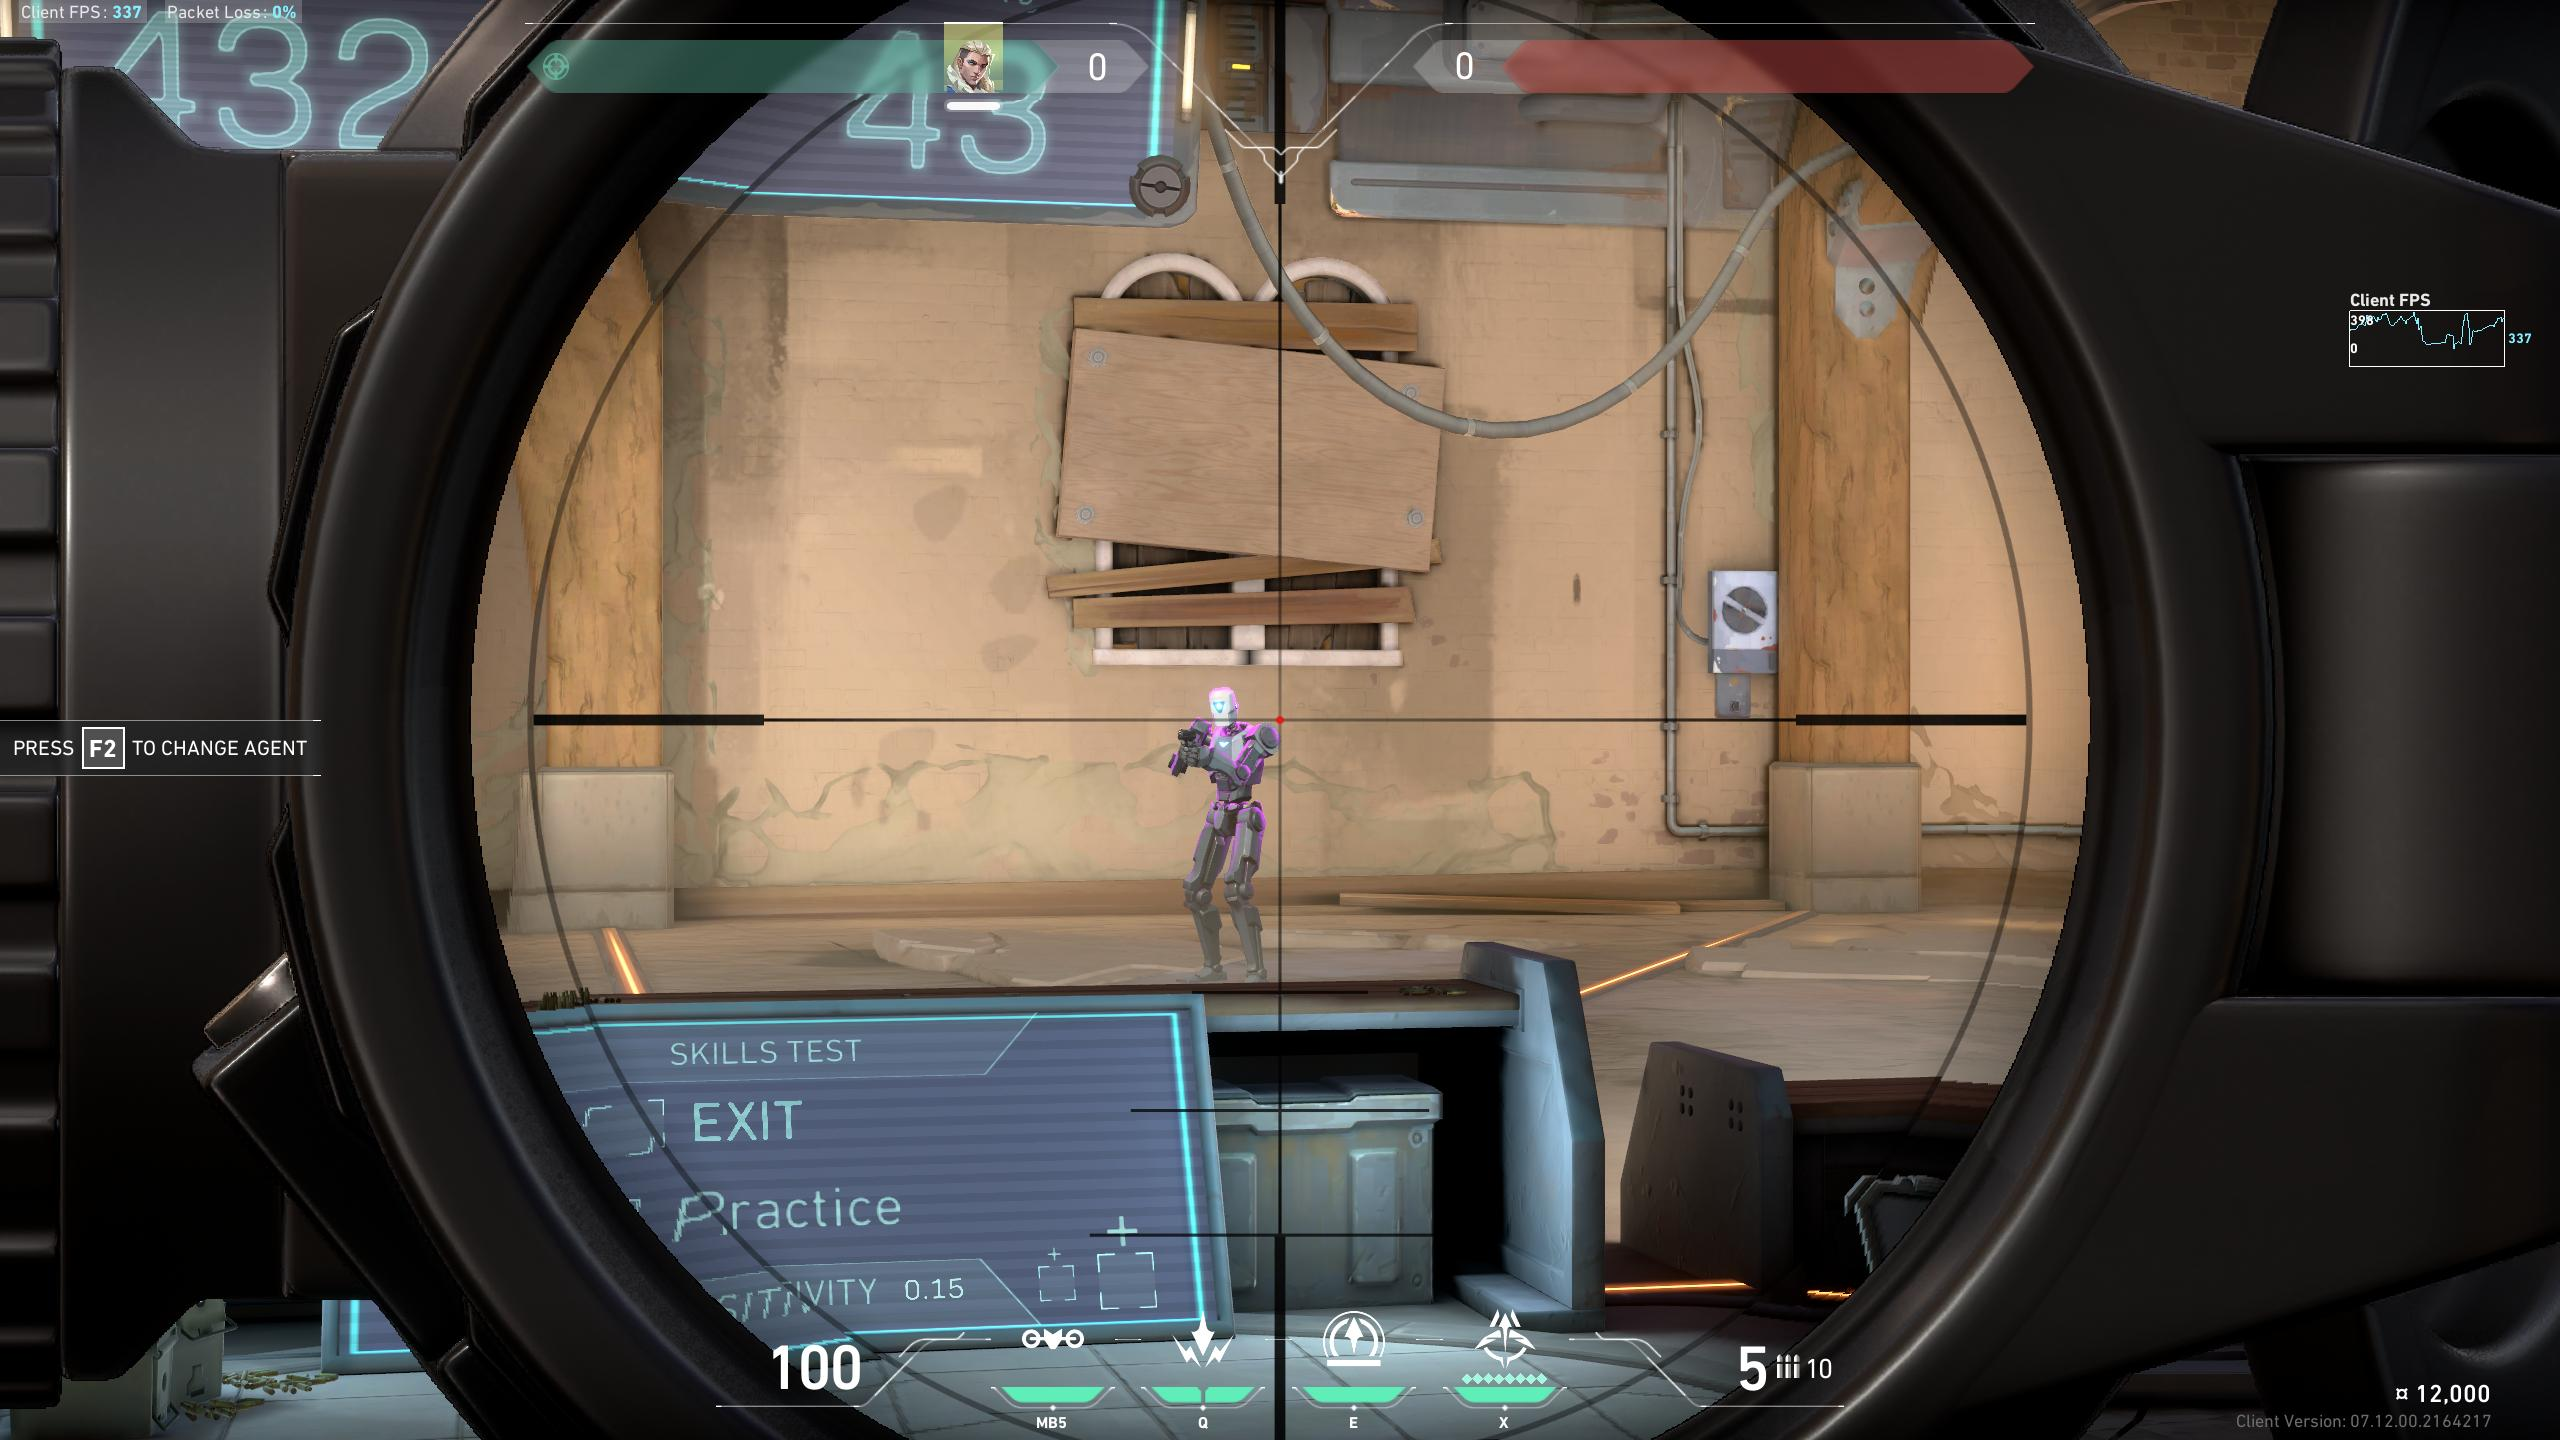enemyBody: (1192, 724, 1273, 823)
enemyHead: (1210, 691, 1238, 731)
